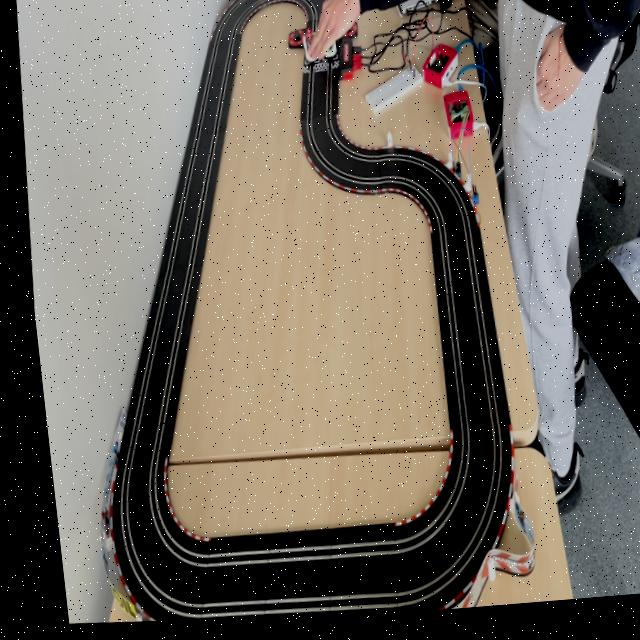mario: (298, 31, 321, 69)
